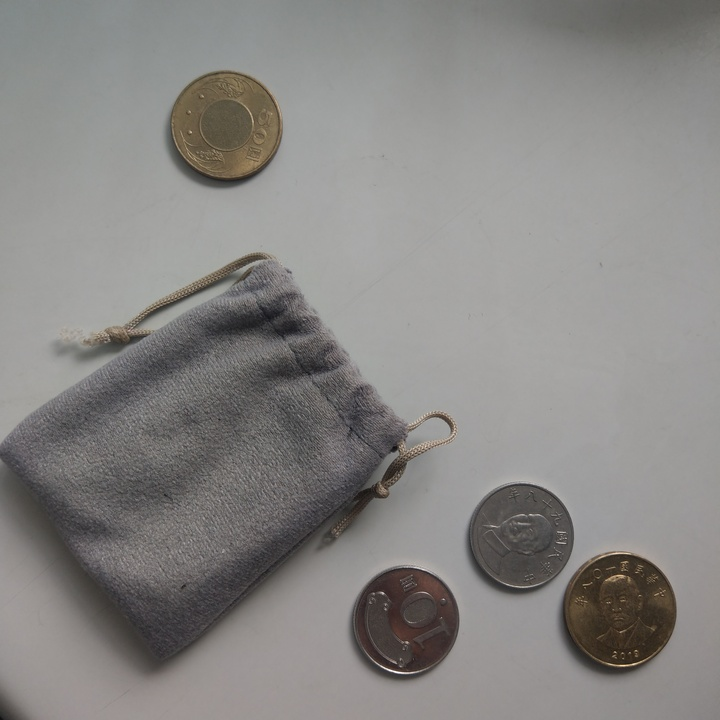10 dollar: (465, 475, 576, 596), (348, 566, 460, 681)
50 dollar: (562, 548, 680, 672), (163, 69, 286, 186)
